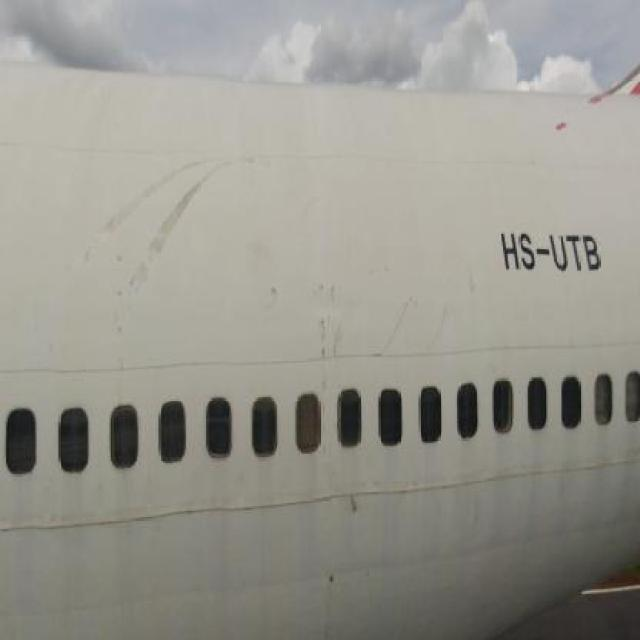Scartch: (306, 274, 346, 386), (349, 478, 368, 545)
